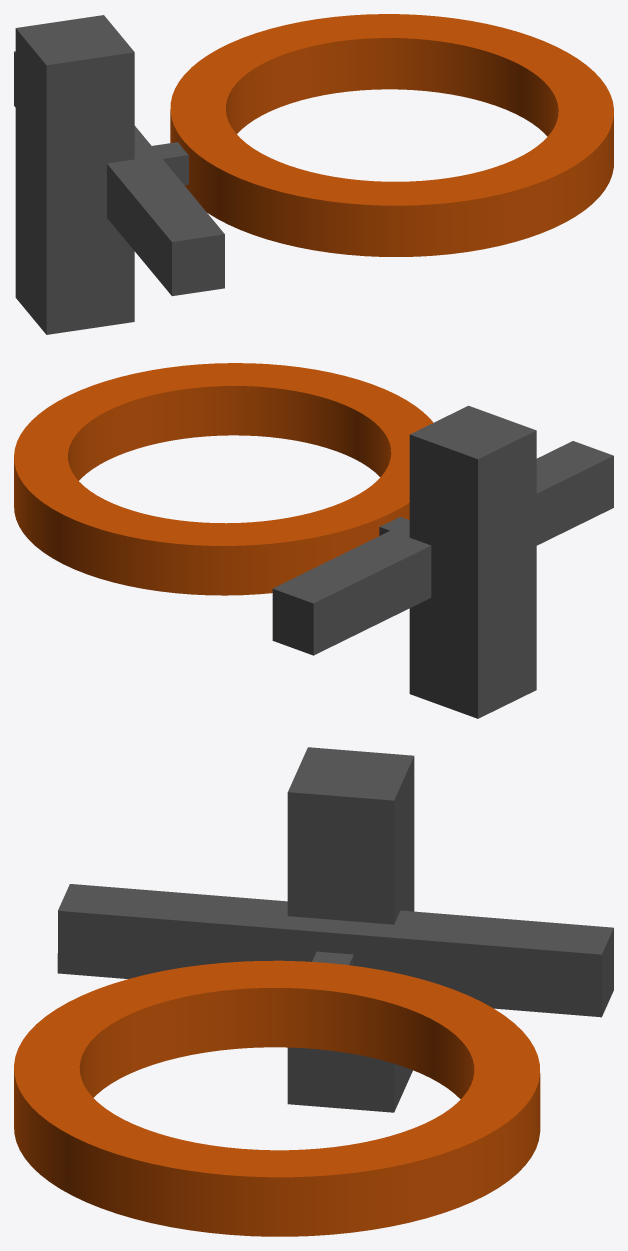
File: Basketball Hoop.fbx
3 views of the same model, one above another, from view 1: azimuth 30°, elevation 25°; view 2: azimuth 150°, elevation 25°; view 3: azimuth 270°, elevation 25° (orthographic). The views are drawn at different scales.
Visible parts, largest first — view 1: Node #3, Node #0, Node #1, Node #2; view 2: Node #3, Node #0, Node #1; view 3: Node #3, Node #1, Node #0.
Part boxes in pixels (box(x1,y1,x2,y2)): Node #3: box(170, 14, 613, 256); Node #0: box(15, 15, 134, 334); Node #1: box(14, 51, 224, 296); Node #2: box(152, 142, 188, 185); Node #3: box(14, 363, 433, 595); Node #0: box(409, 405, 536, 718); Node #1: box(272, 441, 613, 655); Node #3: box(14, 960, 540, 1236); Node #1: box(57, 884, 613, 1017); Node #0: box(287, 747, 414, 1112).
Size of the model in its own units: 0.2511 by 0.1235 by 0.2151.
Materials: 4 (4 with a texture image).
